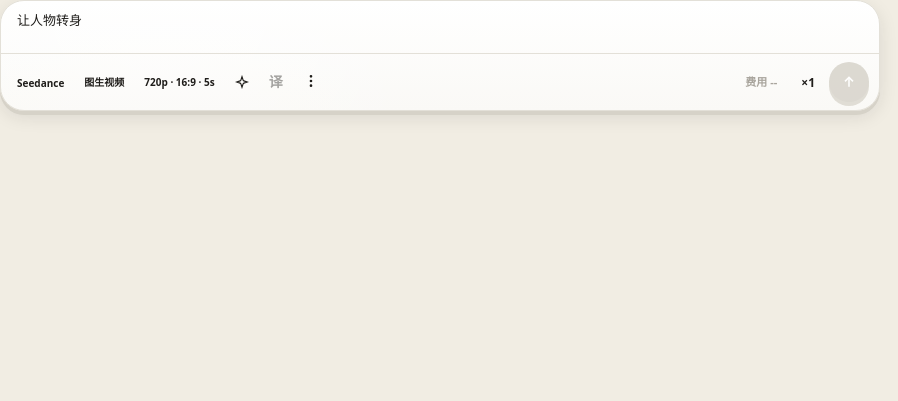
it: workflow node overlays › blocks video submission until the selected mode has the required references
Expected: the button named "promptBar.generate" is disabled, x1=829 y1=62 x2=869 y2=102
Click the button titled "视频生成方式" at (104, 82), box x1=78 y1=70 x2=130 y2=94
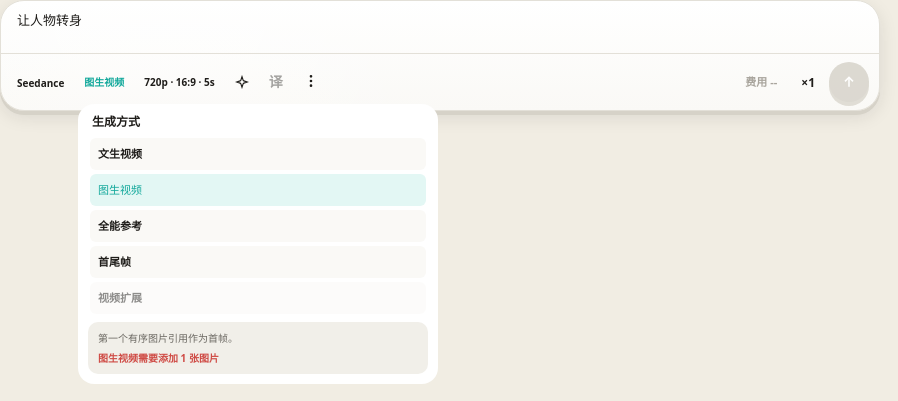
Result: the text "图生视频需要添加 1 张图片" is shown at x1=98 y1=351 x2=219 y2=365
